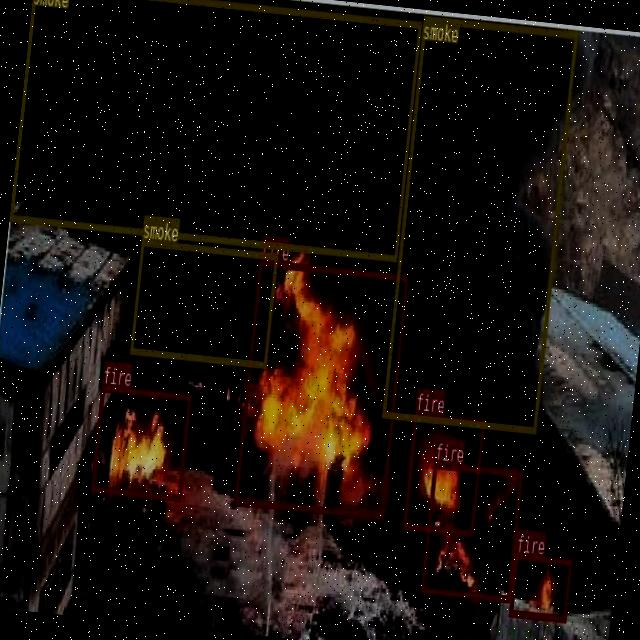fire: (233, 258, 408, 518), (420, 459, 522, 602), (90, 384, 192, 500), (402, 410, 484, 536), (508, 552, 572, 622)
smoke: (9, 0, 421, 260), (382, 14, 578, 432), (128, 238, 278, 367)
